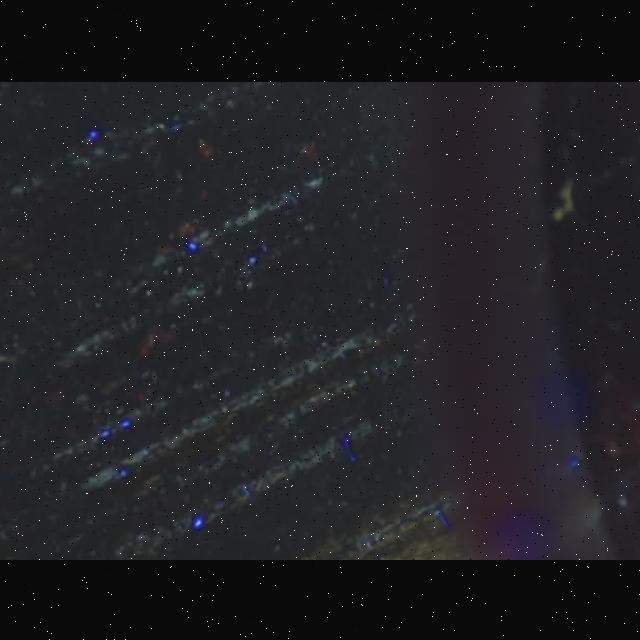Fibre: (554, 176, 580, 222)
